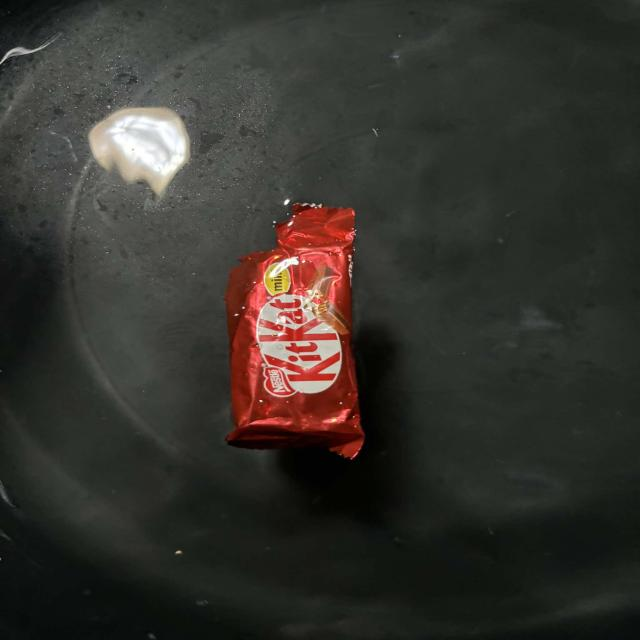Plastic Wrapper: (217, 169, 397, 491)
